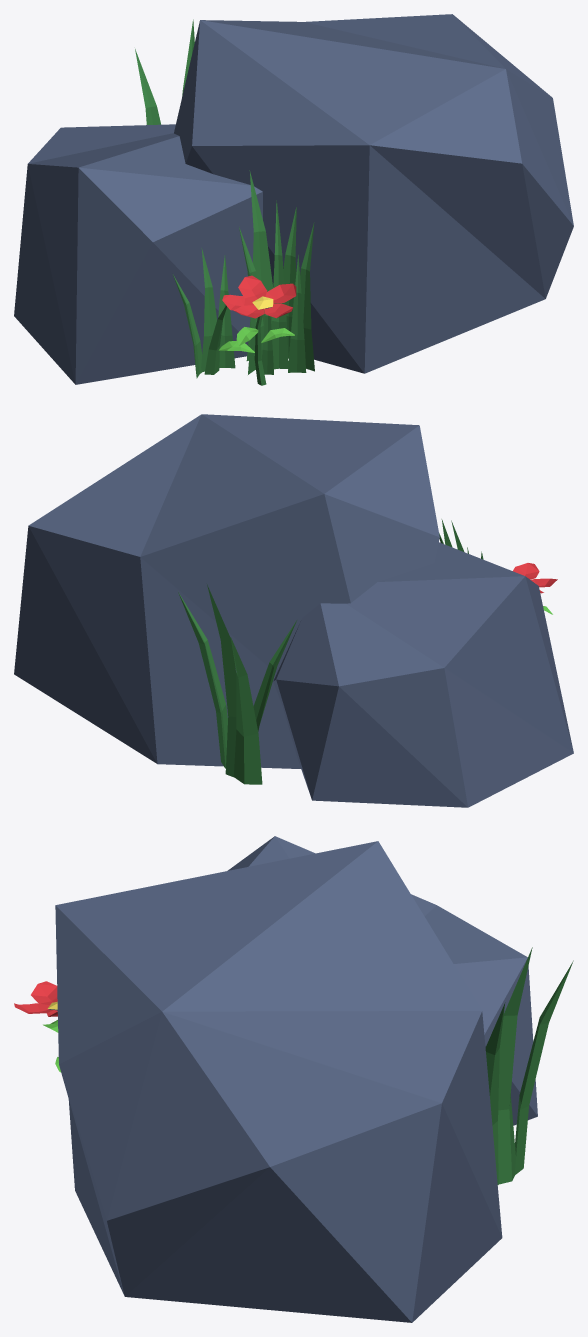
File: Rock04.fbx
3 views of the same model, one above another, from view 1: azimuth 30°, elevation 25°; view 2: azimuth 150°, elevation 25°; view 3: azimuth 270°, elevation 25° (orthographic). The views are drawn at different scales.
Visible parts, largest first — view 1: Rock_04; view 2: Rock_04; view 3: Rock_04.
Boxes of the visible parts, box(x1,y1,x2,y2) form: Rock_04: box(14, 14, 573, 385); Rock_04: box(14, 414, 573, 807); Rock_04: box(14, 836, 573, 1322).
Bounding box in the file's own units: 118 × 61.49 × 95.41.
